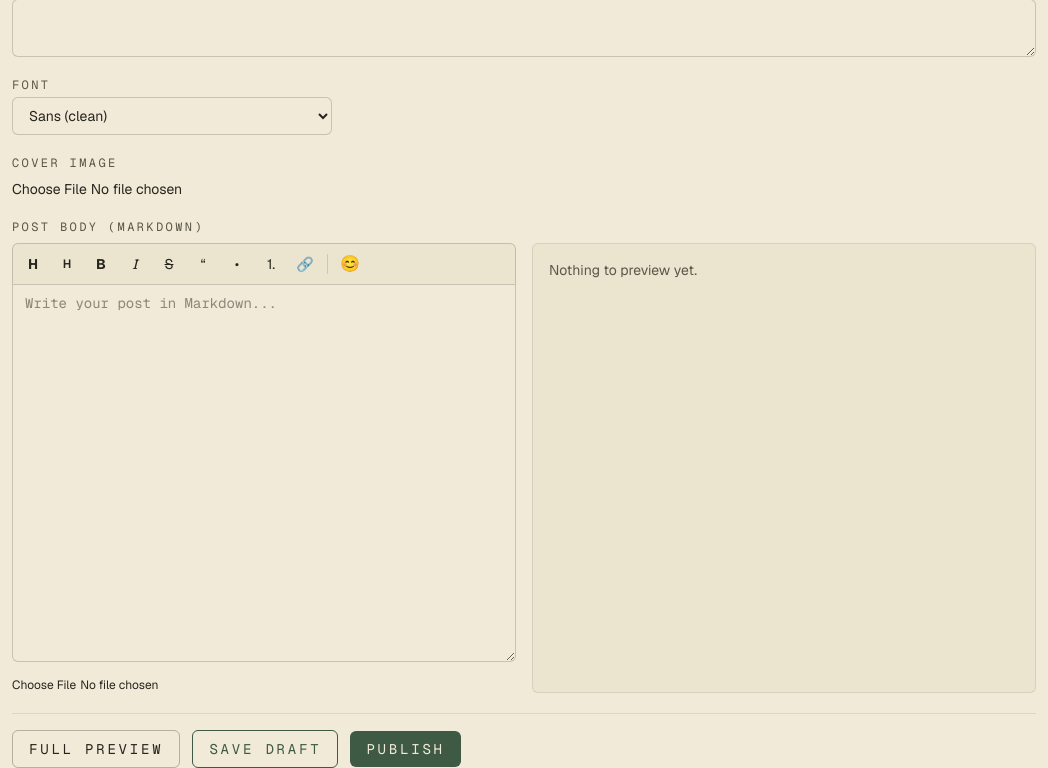
Test: PostEditor › renders a live markdown preview of the body
(page scrolled)
Type "# Hi there" into the text box named "post body" at {"x": 264, "y": 473}, box [12,284,516,662]
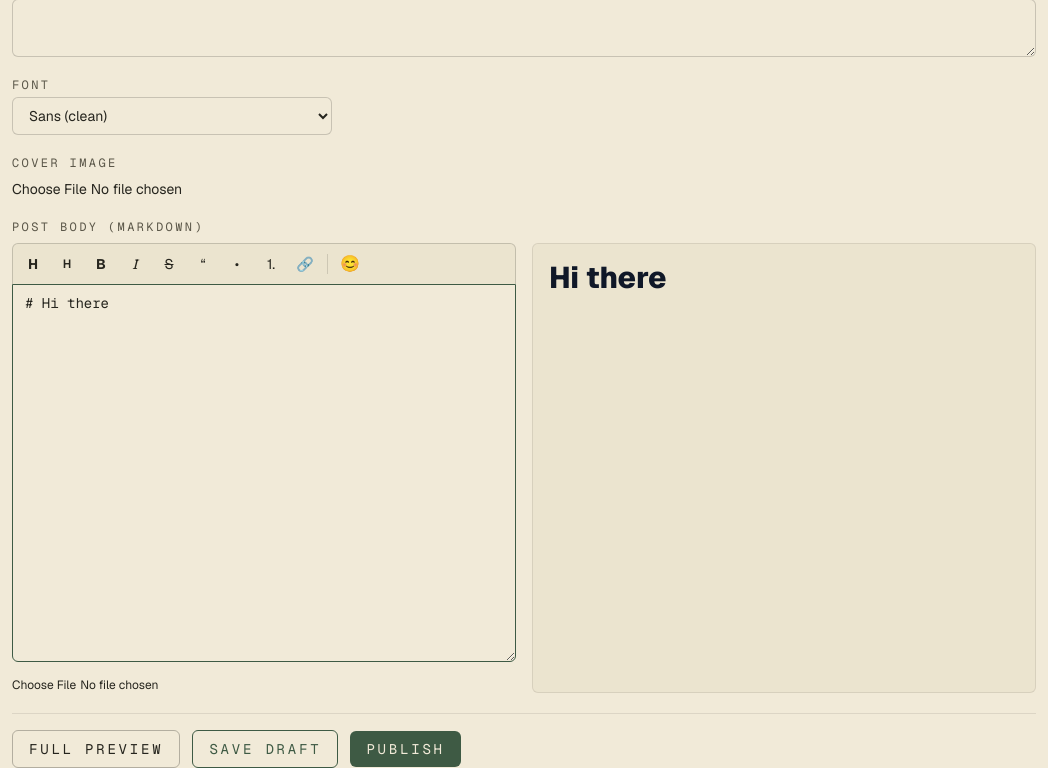
Now the heading "Hi there" is shown, box [549,258,666,297]
